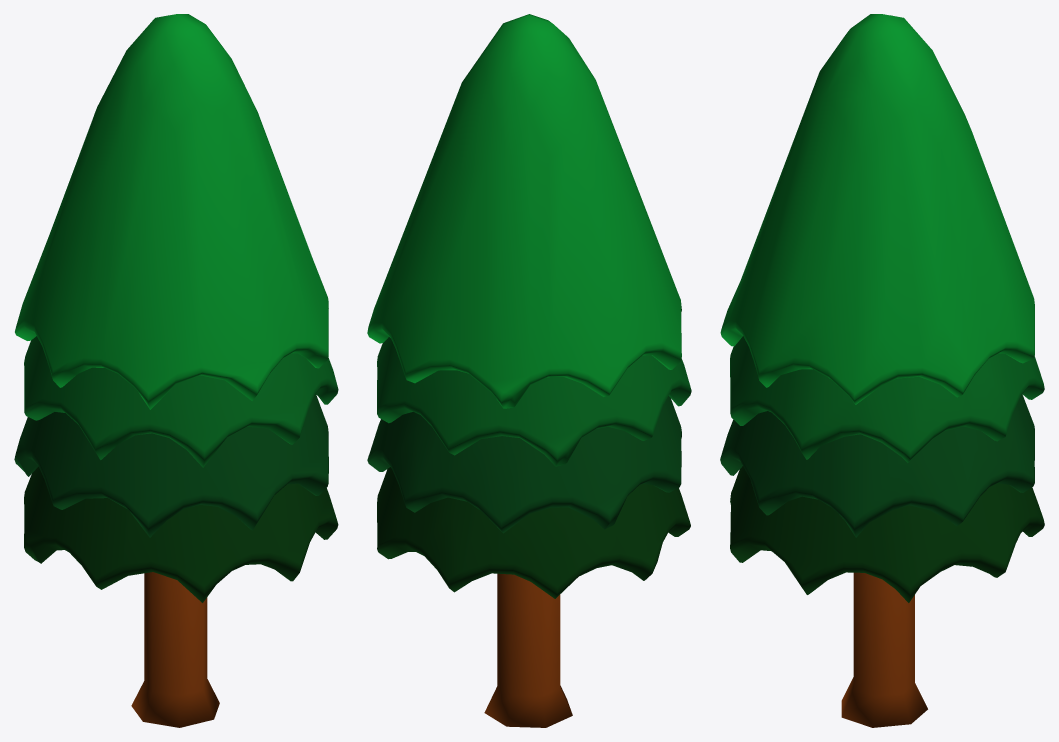
File: Tree.fbx
The picture shows the model from 3 angles, left to right: view 1: azimuth 30°, elevation 25°; view 2: azimuth 150°, elevation 25°; view 3: azimuth 270°, elevation 25°; orthographic projection.
Parts seen in each view (by area): view 1: Cylinder; view 2: Cylinder; view 3: Cylinder.
Boxes of the visible parts, bbox=[...] form: Cylinder: bbox=[14, 14, 338, 727]; Cylinder: bbox=[367, 14, 691, 727]; Cylinder: bbox=[720, 14, 1044, 727].
Size of the model in its own units: 146 by 351 by 148.
